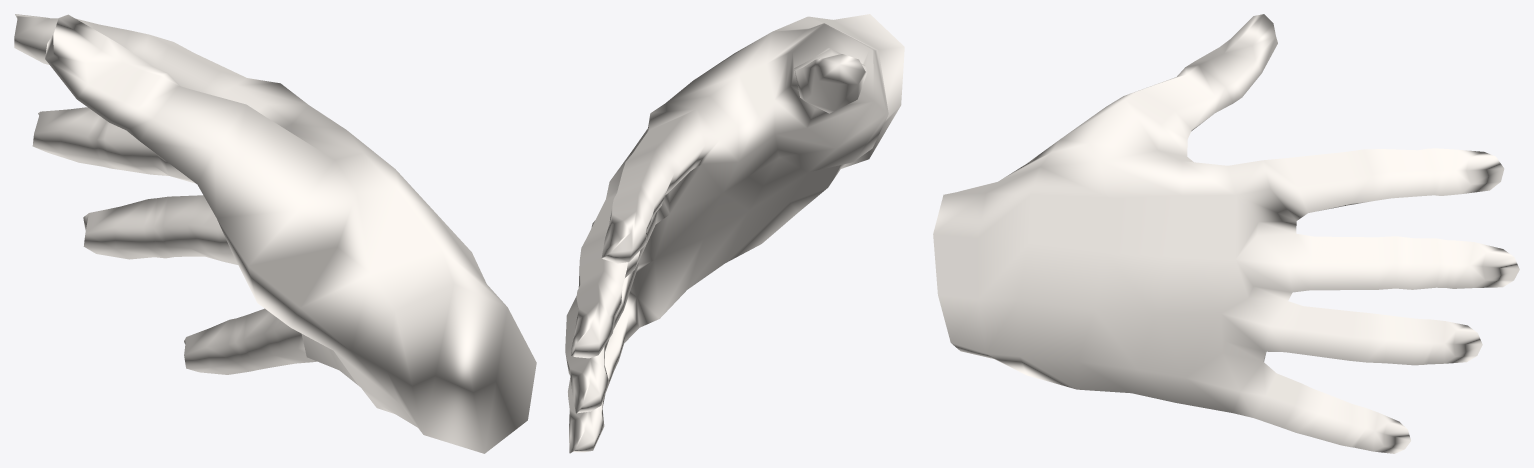
The model's file is Avatar_HandR.gltf.
3 views of the same model, side by side, from view 1: azimuth 30°, elevation 25°; view 2: azimuth 150°, elevation 25°; view 3: azimuth 270°, elevation 25° (orthographic). The views are drawn at different scales.
Parts seen in each view (by area): view 1: Avatar_HandR; view 2: Avatar_HandR; view 3: Avatar_HandR.
Boxes of the visible parts, x1,y1,x2,y2 form: Avatar_HandR: (14,14,536,453); Avatar_HandR: (565,14,904,453); Avatar_HandR: (933,14,1519,453).
Bounding box in the file's own units: 0.4285 × 0.5995 × 0.903.
1 material, 1 textured.
